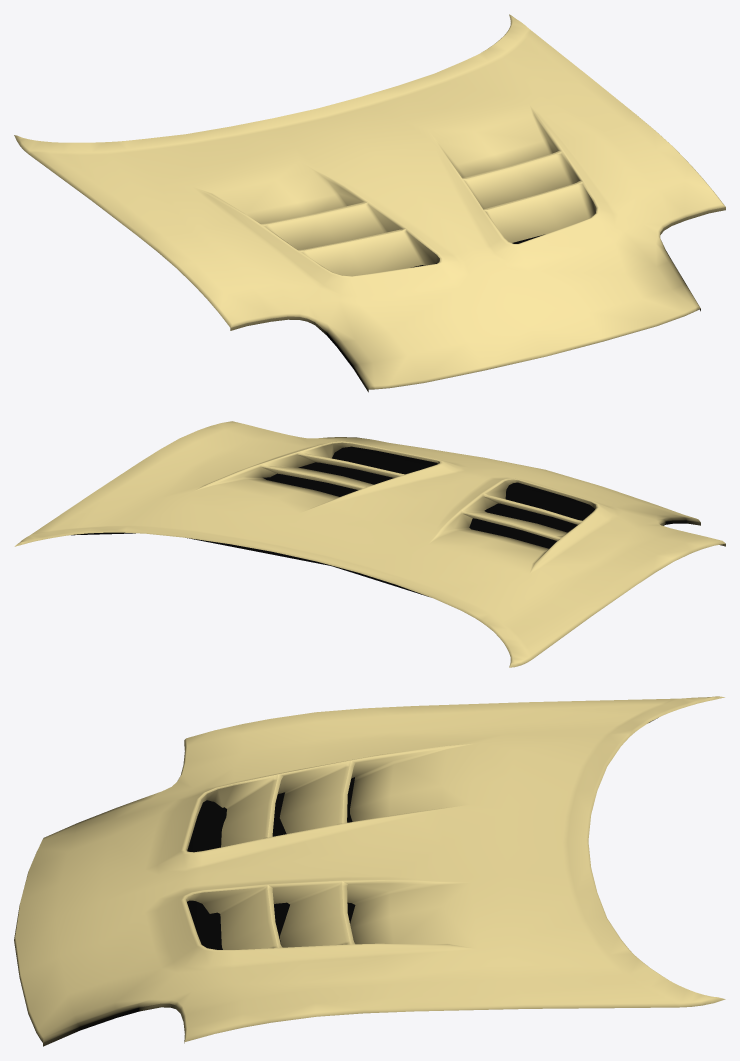
File: RX7_Bonnet02_Duco.fbx
3 renders of one model, top to bottom at view 1: azimuth 30°, elevation 25°; view 2: azimuth 150°, elevation 25°; view 3: azimuth 270°, elevation 25°, orthographic. The views are drawn at different scales.
Visible parts, largest first — view 1: RX7_Bonnet02_Duco; view 2: RX7_Bonnet02_Duco; view 3: RX7_Bonnet02_Duco.
Part boxes in pixels (bbox=[...]): RX7_Bonnet02_Duco: bbox=[14, 14, 725, 392]; RX7_Bonnet02_Duco: bbox=[14, 421, 725, 667]; RX7_Bonnet02_Duco: bbox=[14, 696, 725, 1046].
Bounding box in the file's own units: 139 × 22.38 × 136.
